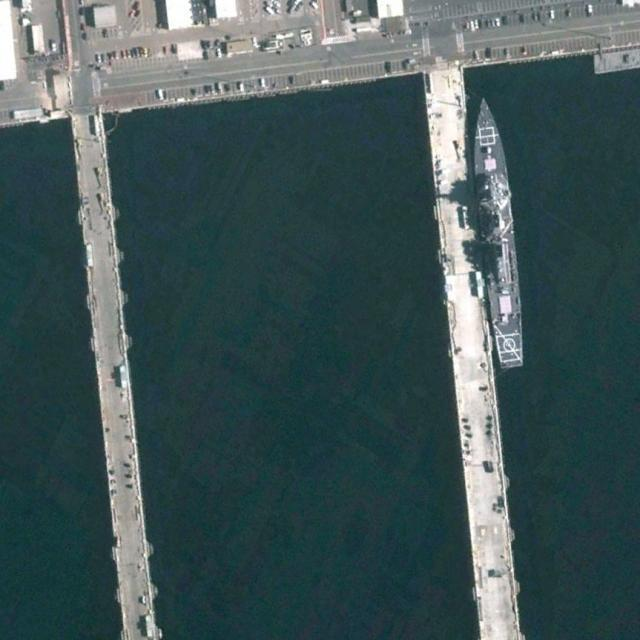Destroyer: (466, 92, 529, 371)
